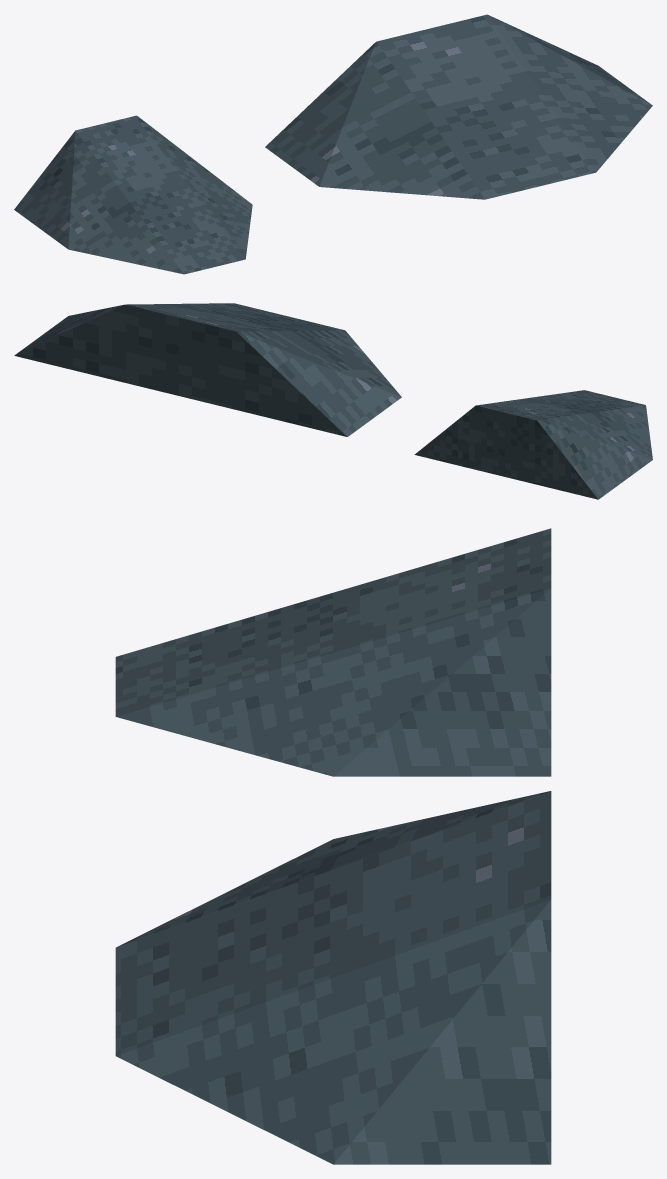
File: Ramps.fbx
3 views of the same model, one above another, from view 1: azimuth 30°, elevation 25°; view 2: azimuth 150°, elevation 25°; view 3: azimuth 270°, elevation 25° (orthographic). The views are drawn at different scales.
Parts seen in each view (by area): view 1: LargeRamp, SmallRamp; view 2: LargeRamp, SmallRamp; view 3: LargeRamp, SmallRamp.
Boxes of the visible parts, x1,y1,x2,y2 form: LargeRamp: [265, 14, 652, 199]; SmallRamp: [14, 115, 252, 274]; LargeRamp: [14, 303, 401, 436]; SmallRamp: [414, 390, 652, 499]; LargeRamp: [115, 791, 551, 1164]; SmallRamp: [115, 528, 551, 776].
Size of the model in its own units: 719 by 232 by 93.73.
Materials: 1 (1 with a texture image).
